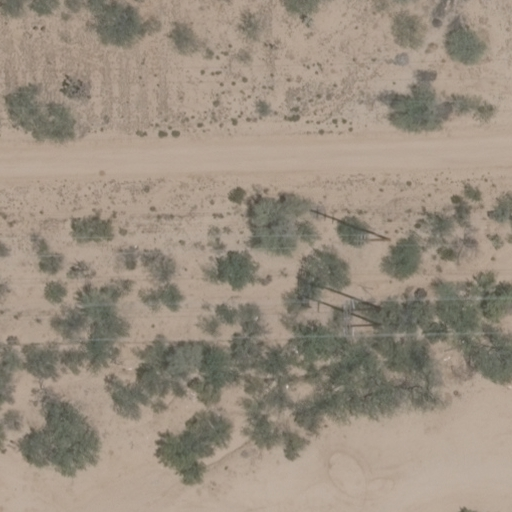DT: (316, 210, 394, 245), (303, 301, 380, 330), (311, 281, 383, 311)
